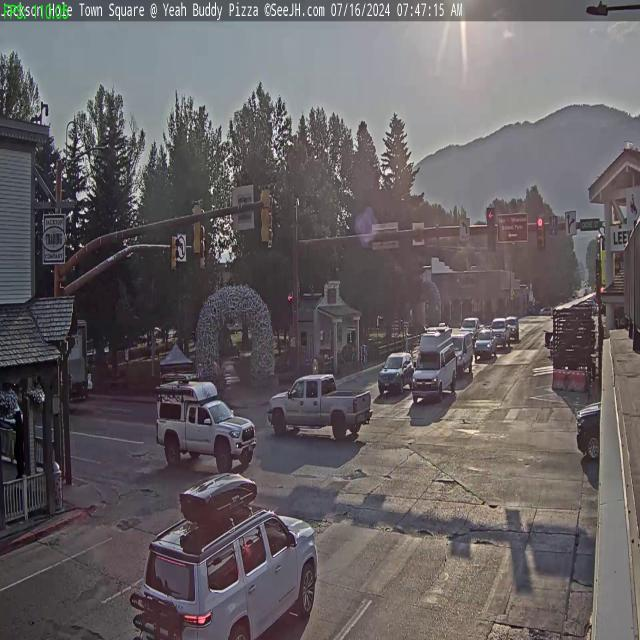pickup: (155, 376, 255, 465), (294, 384, 372, 441)
suv: (135, 504, 320, 639), (378, 350, 414, 394), (474, 330, 496, 360)
traffic light: (260, 184, 273, 246), (191, 200, 203, 256), (486, 207, 497, 252), (171, 234, 179, 271), (536, 215, 544, 248)
van: (414, 339, 457, 403), (448, 328, 475, 378)
